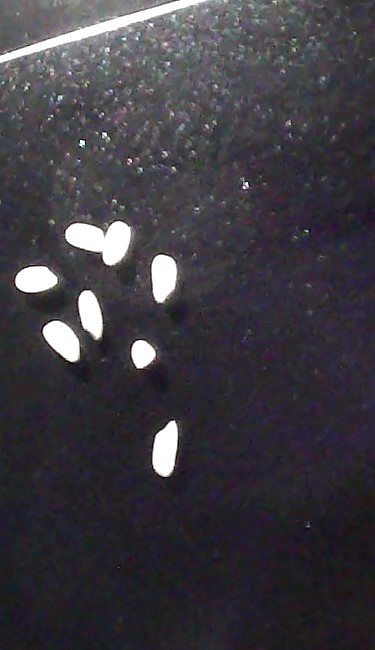broken_grain: (14, 266, 63, 299), (65, 220, 106, 256), (132, 336, 158, 371)
complete_grain: (147, 415, 185, 489), (38, 321, 83, 371), (148, 250, 180, 307), (76, 290, 109, 344), (104, 217, 136, 269)
